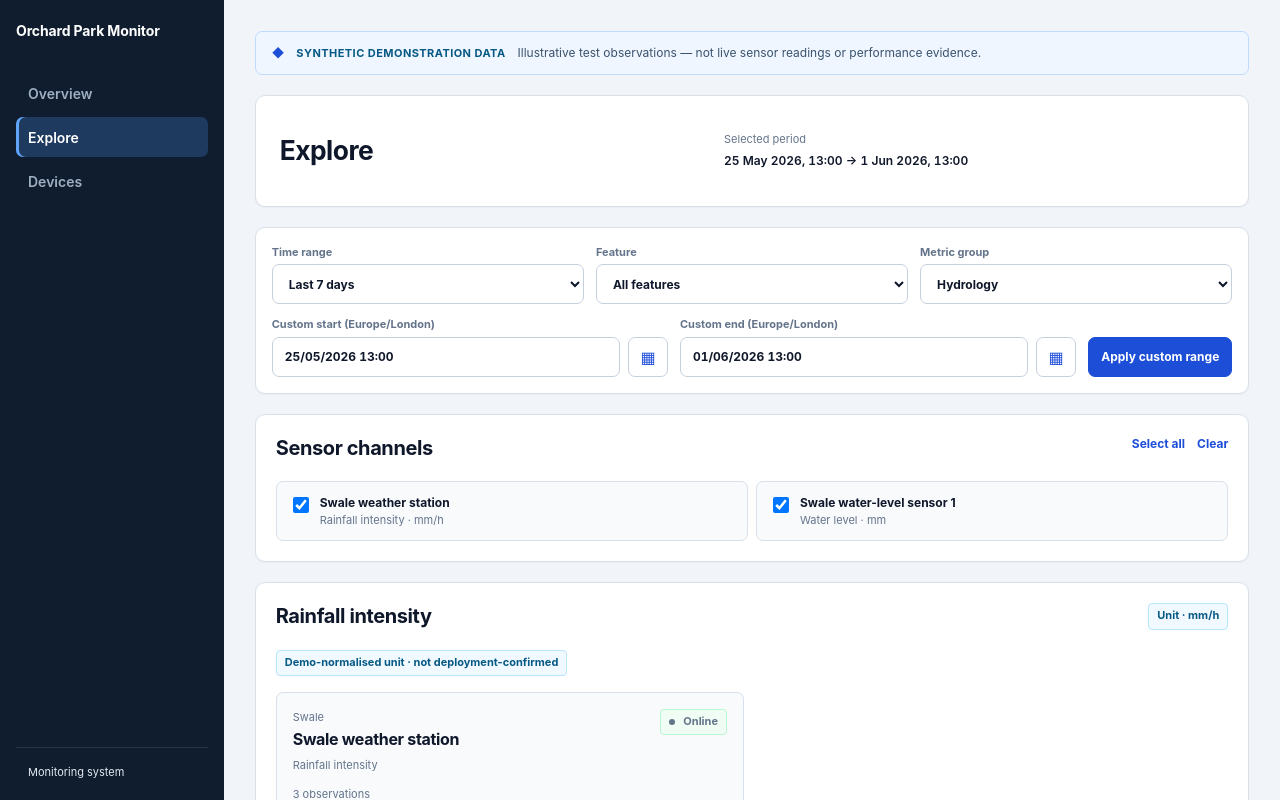
Test: monitoring dashboard › updates preset URLs and shows the tree-pit configuration-pending state
Expected: the heading "Explore" is shown, [280,135,373,166]
Select "Last 24 hours" in the dropdown labelled "Time range" at [428, 284], box [272,264,584,304]
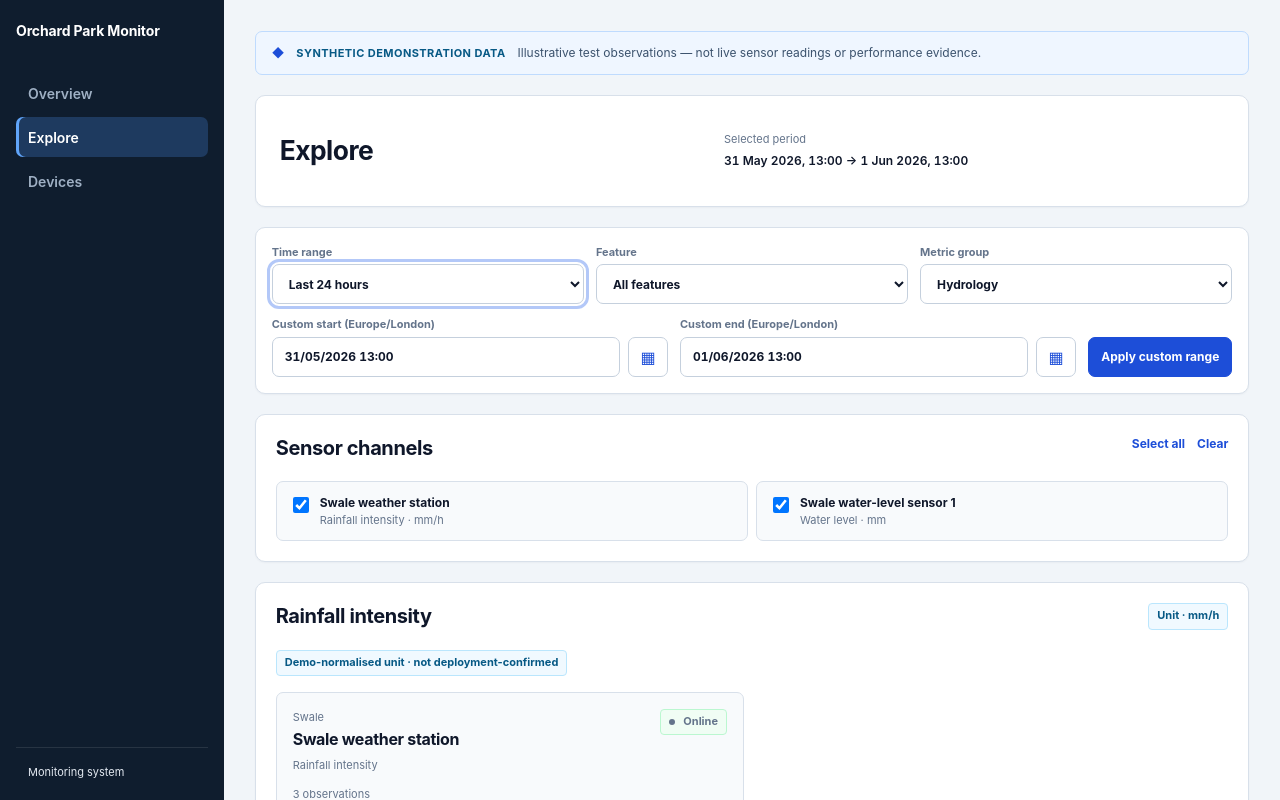
Select "Tree pit" in the dropdown labelled "Feature" at [752, 284], box [596,264,908,304]
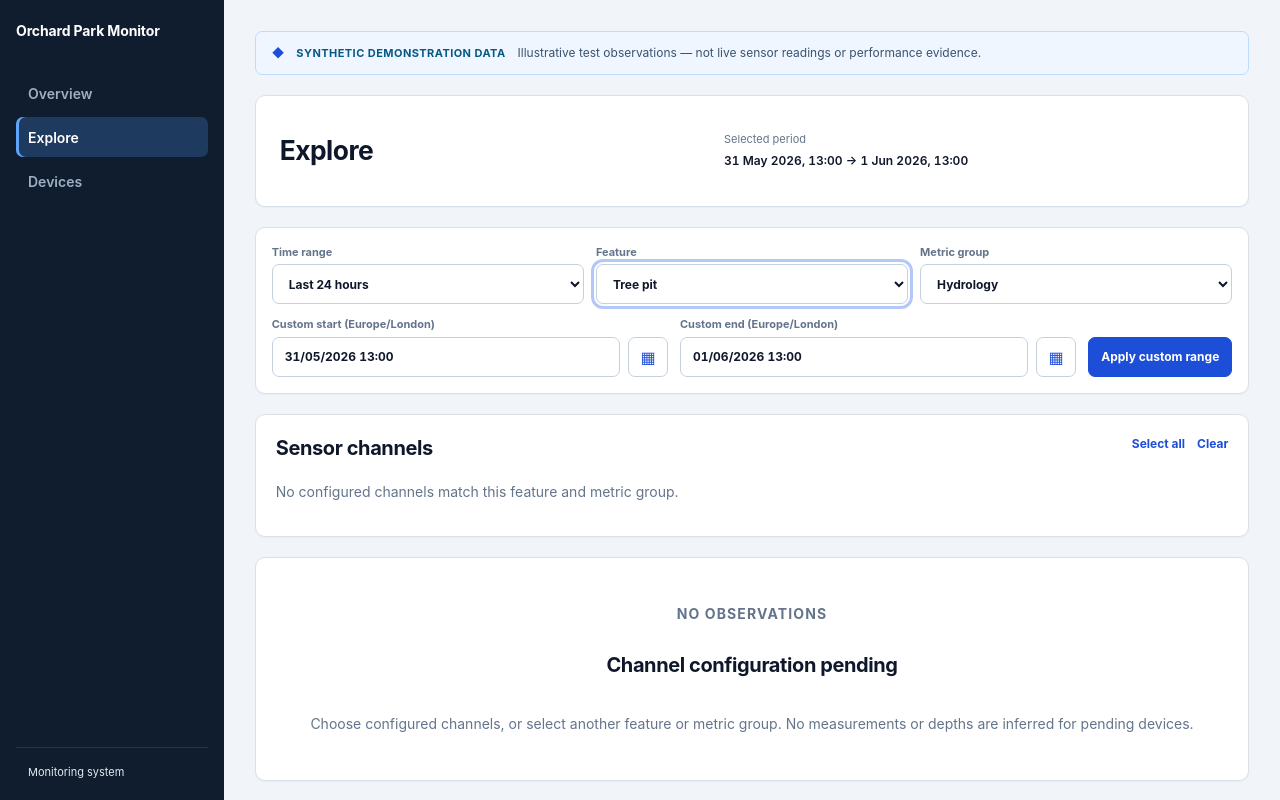
Now the heading "Channel configuration pending" is shown, box [606,652,898,678]
